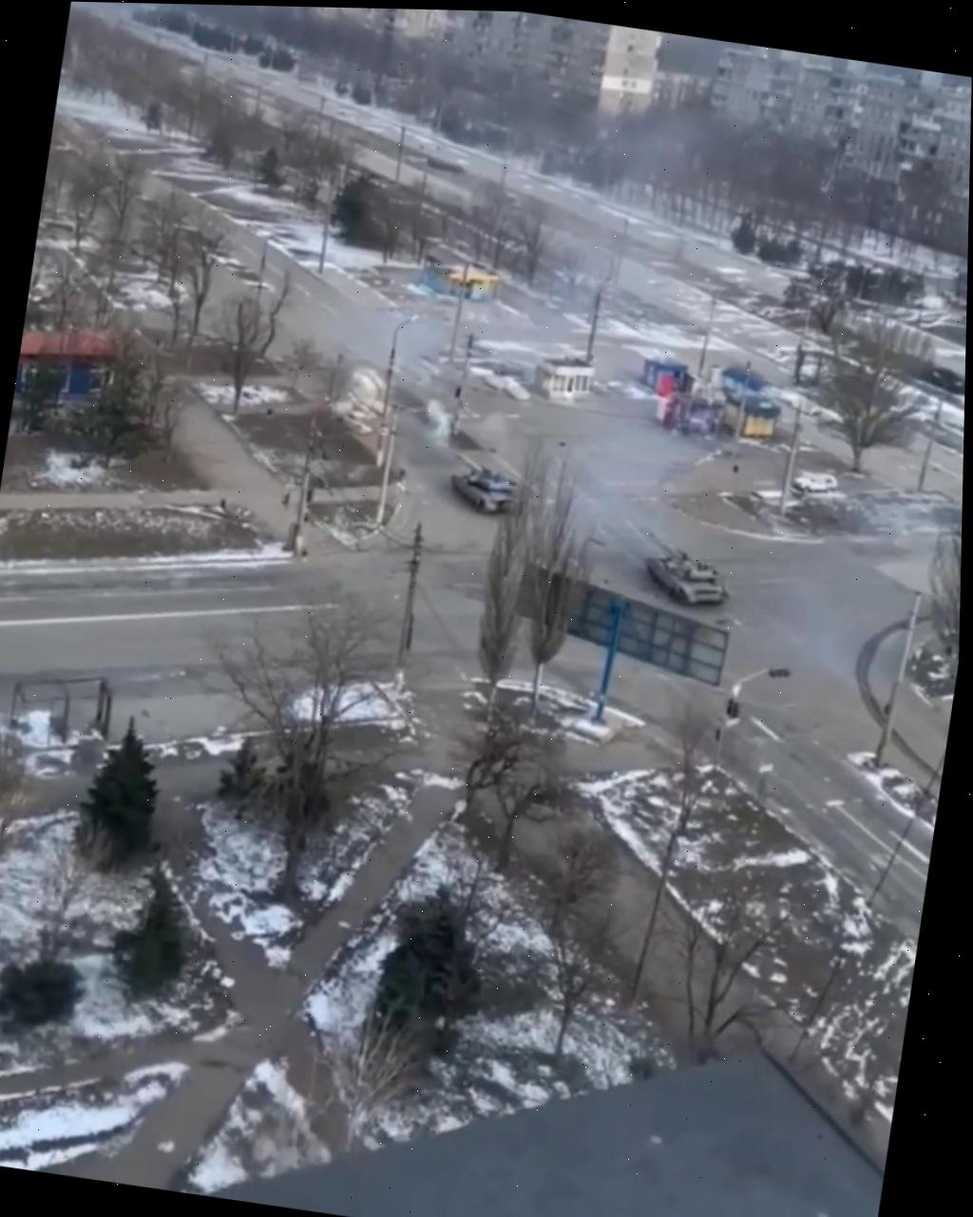tank: (633, 526, 735, 612), (442, 450, 524, 518)
